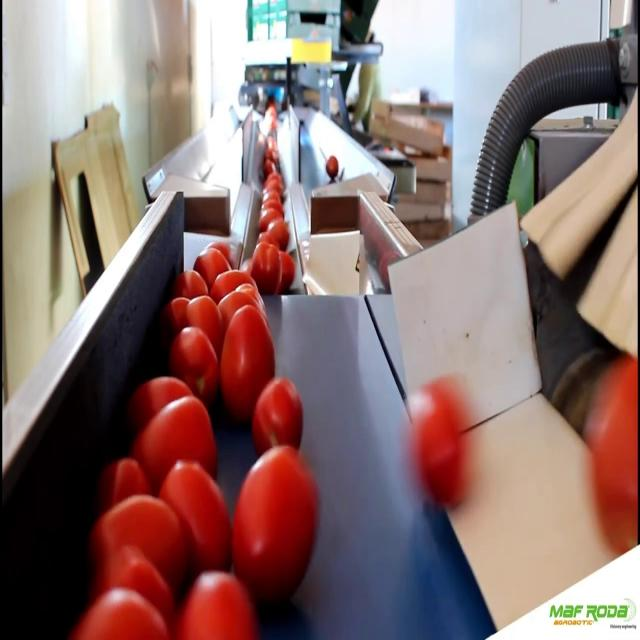Tomato: (230, 455, 320, 599), (580, 365, 640, 555), (95, 500, 185, 602), (412, 383, 472, 508), (131, 399, 221, 481), (218, 308, 278, 422), (169, 468, 230, 566), (180, 565, 256, 640), (78, 588, 170, 640), (256, 372, 304, 457), (172, 326, 221, 404), (100, 456, 150, 506), (131, 378, 192, 418), (188, 300, 222, 340), (252, 242, 280, 288), (194, 249, 226, 286), (173, 268, 207, 302), (213, 270, 253, 295), (169, 297, 192, 331), (267, 218, 290, 249), (322, 150, 341, 185), (274, 254, 296, 283), (260, 204, 281, 226)
